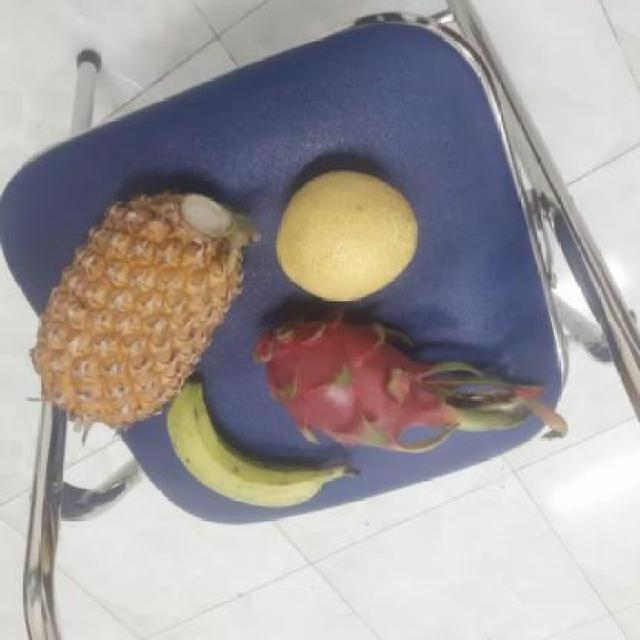banana: (161, 381, 339, 508)
dragon fruit: (248, 303, 449, 452)
pear: (270, 167, 419, 298)
pineapple: (33, 190, 253, 425)
